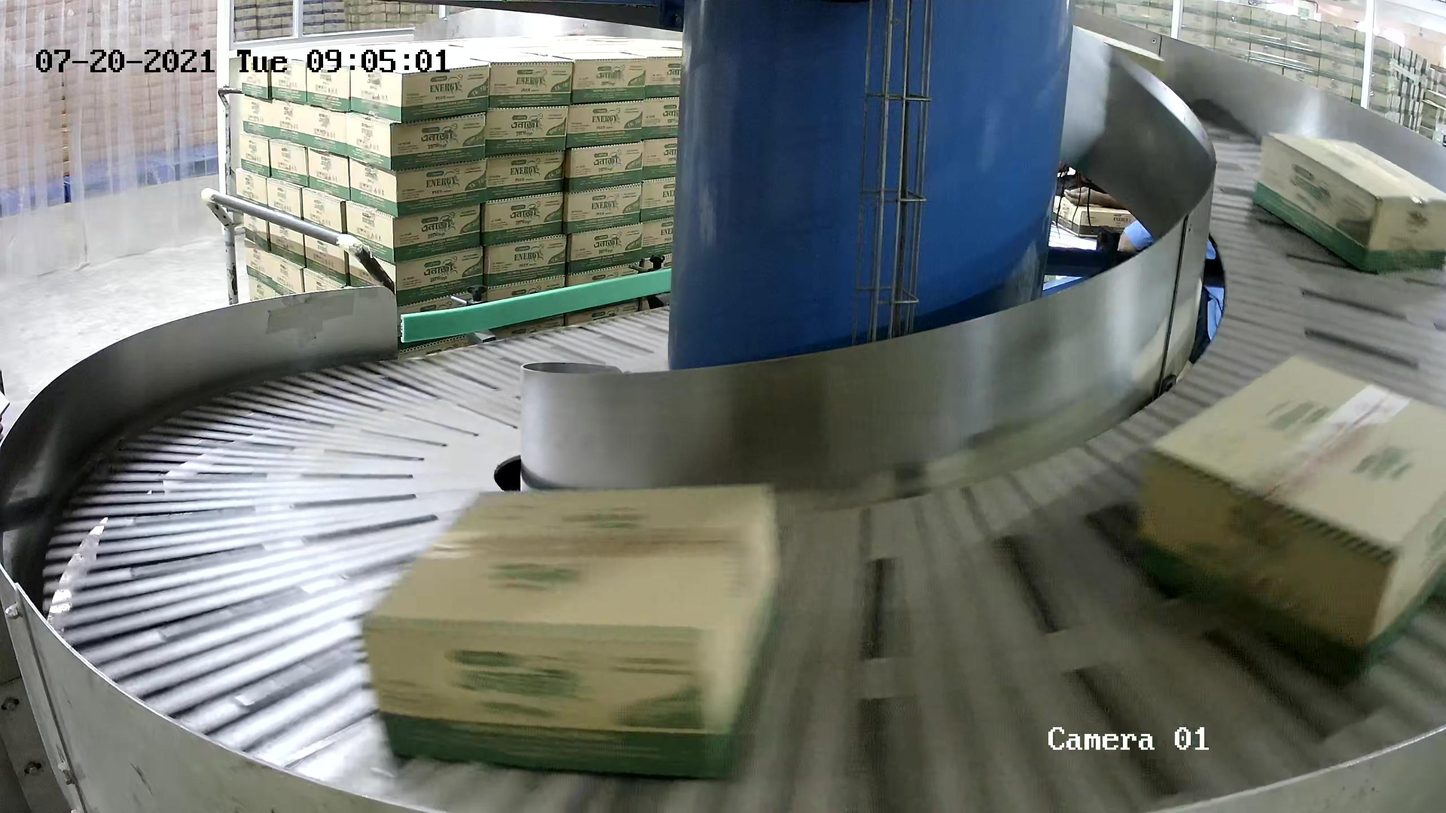Box: (355, 484, 779, 777), (1133, 351, 1446, 690), (1251, 132, 1446, 277)
